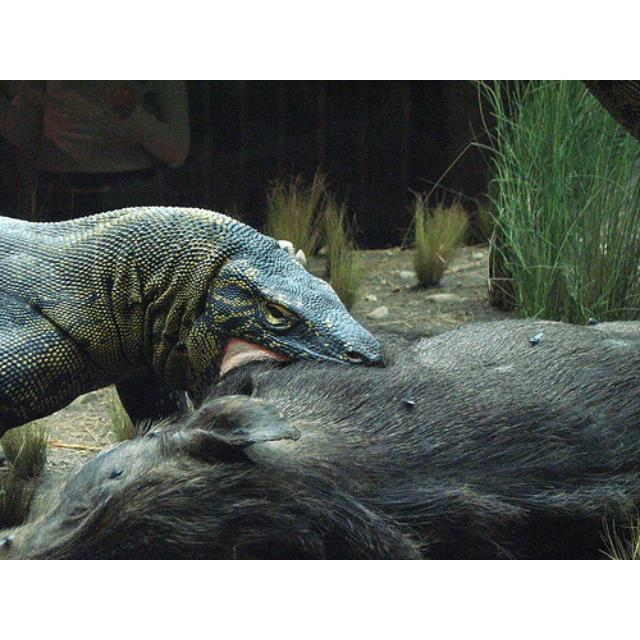KomodoDragon: (1, 202, 382, 433)
